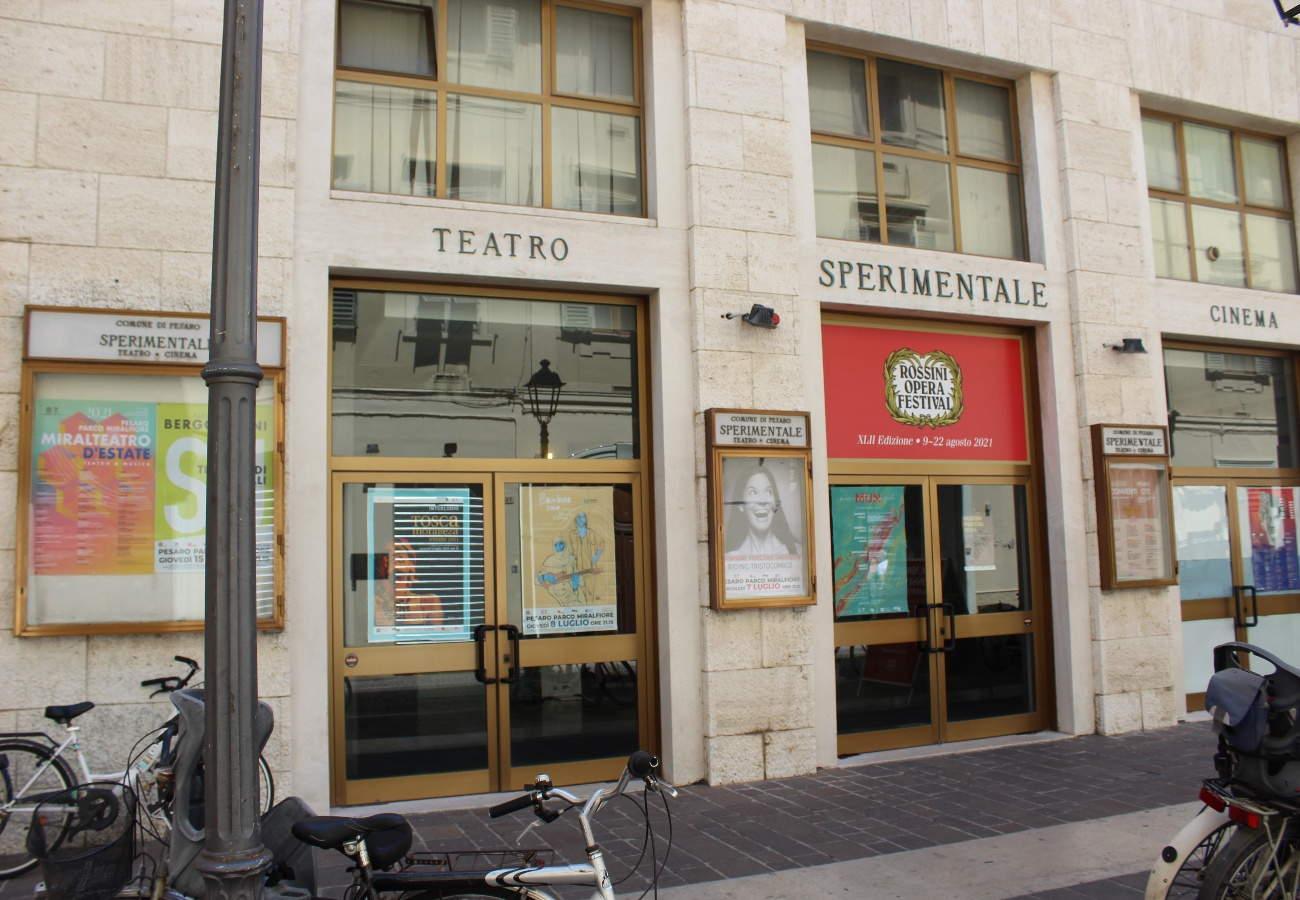Teatro Sperimentale: (289, 4, 1300, 812)
